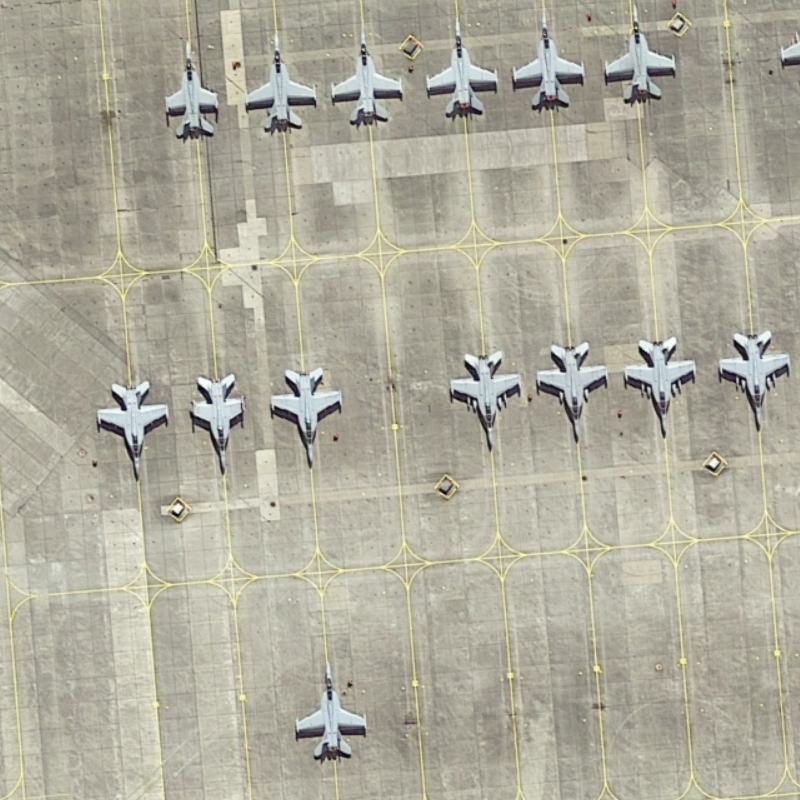A16: (531, 331, 616, 453), (711, 320, 794, 437), (618, 332, 703, 444), (238, 25, 321, 138), (507, 6, 590, 119), (324, 22, 410, 131), (419, 11, 505, 120), (290, 651, 371, 766), (443, 342, 524, 455), (265, 362, 347, 473), (93, 372, 174, 484), (596, 2, 679, 109), (180, 366, 249, 483), (155, 32, 228, 141)
